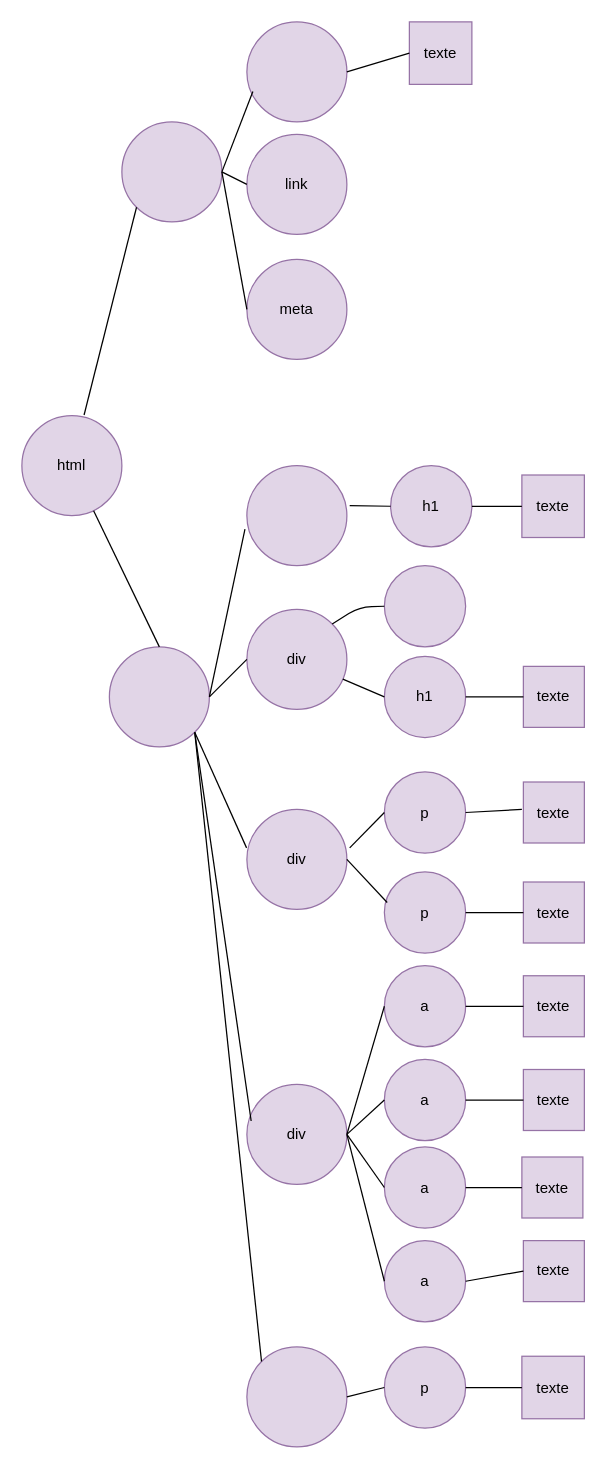
This 606x1469 diagram has some shape labels left out. The centre of each missing label's shape, as x and y in pixels:
body: the point at 158,696
footer: the point at 296,1396
head: the point at 171,171
header: the point at 296,515
img: the point at 424,605
title: the point at 296,71
